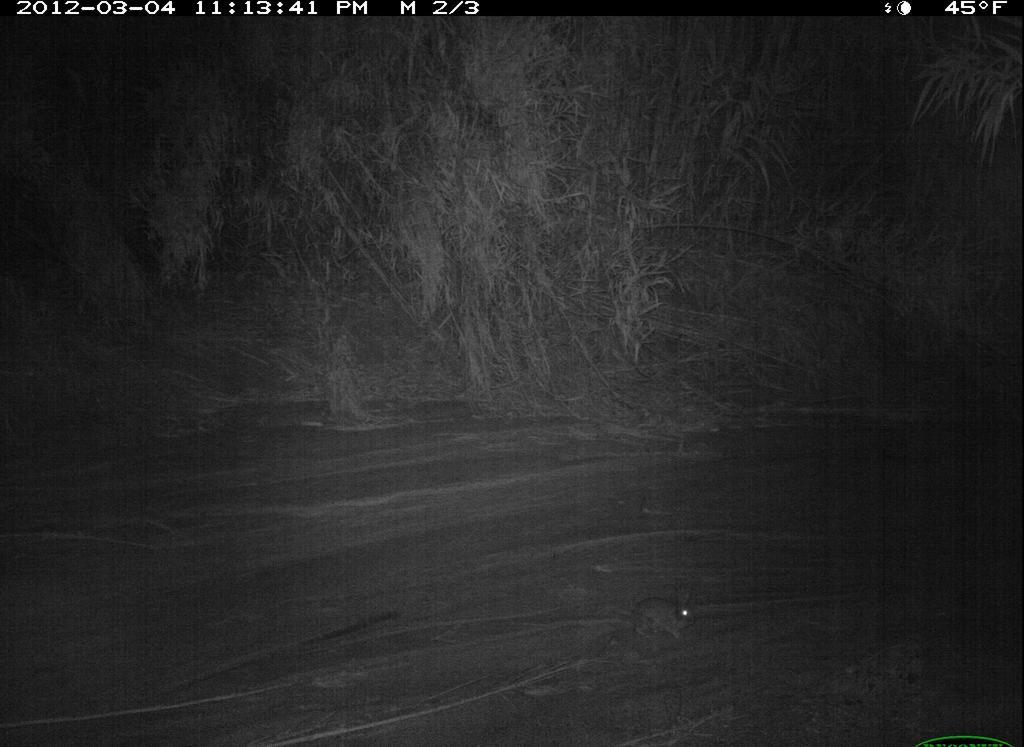rabbit: (620, 578, 706, 649)
